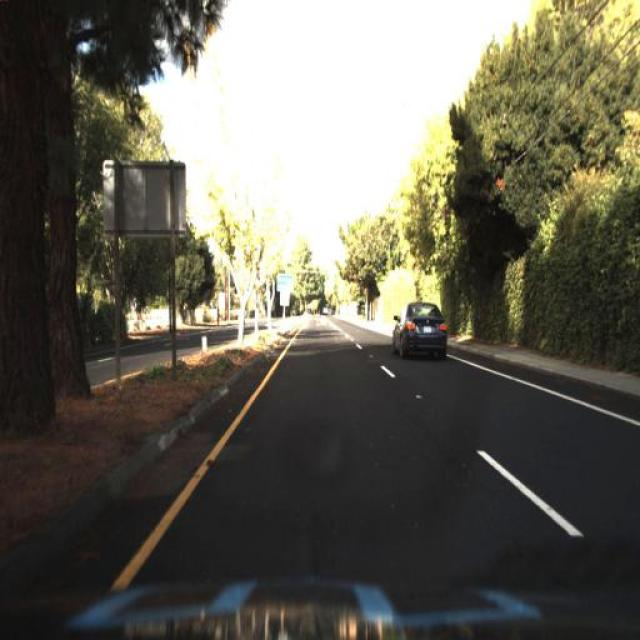car: (390, 298, 449, 362)
